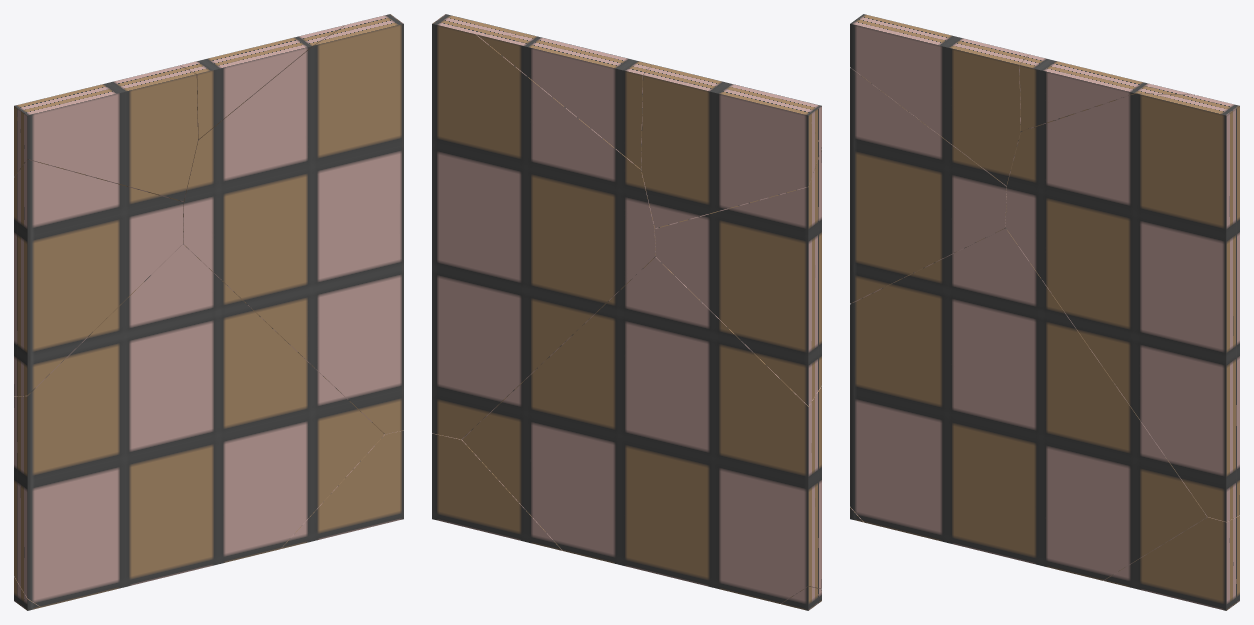
File: Wall.fbx
The picture shows the model from 3 angles, left to right: view 1: azimuth 30°, elevation 25°; view 2: azimuth 150°, elevation 25°; view 3: azimuth 330°, elevation 25°; orthographic projection.
Parts seen in each view (by area): view 1: Cube_cell.012, Cube_cell.025, Cube_cell.017, Cube_cell.023, Cube_cell.026, Cube_cell.027; view 2: Cube_cell.012, Cube_cell.025, Cube_cell.017, Cube_cell.023, Cube_cell.027, Cube_cell.026, Cube_cell.019; view 3: Cube_cell.012, Cube_cell.025, Cube_cell.017, Cube_cell.023, Cube_cell.026, Cube_cell.027.
Boxes of the visible parts, bbox=[...] form: Cube_cell.012: bbox=[14, 244, 384, 607]; Cube_cell.025: bbox=[183, 14, 403, 433]; Cube_cell.017: bbox=[14, 159, 183, 396]; Cube_cell.023: bbox=[14, 65, 197, 201]; Cube_cell.026: bbox=[281, 430, 403, 548]; Cube_cell.027: bbox=[180, 25, 345, 140]; Cube_cell.012: bbox=[462, 256, 821, 603]; Cube_cell.025: bbox=[432, 14, 655, 439]; Cube_cell.017: bbox=[655, 150, 821, 405]; Cube_cell.023: bbox=[641, 64, 821, 228]; Cube_cell.027: bbox=[477, 34, 652, 168]; Cube_cell.026: bbox=[432, 433, 562, 550]; Cube_cell.019: bbox=[781, 586, 821, 610]; Cube_cell.012: bbox=[850, 228, 1207, 580]; Cube_cell.025: bbox=[1006, 93, 1239, 521]; Cube_cell.017: bbox=[850, 68, 1006, 303]; Cube_cell.023: bbox=[850, 14, 1028, 186]; Cube_cell.026: bbox=[1103, 515, 1239, 610]; Cube_cell.027: bbox=[1019, 54, 1194, 131].
Size of the model in its own units: 200 by 252 by 12.34.
